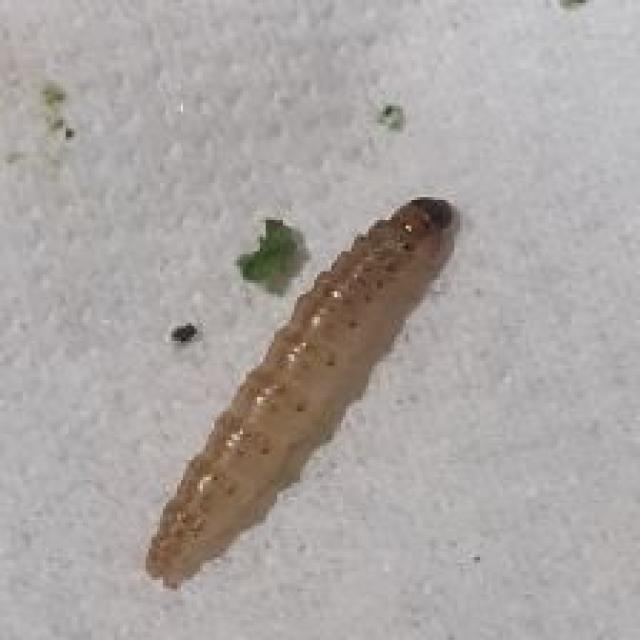white mucus: (111, 178, 484, 605)
